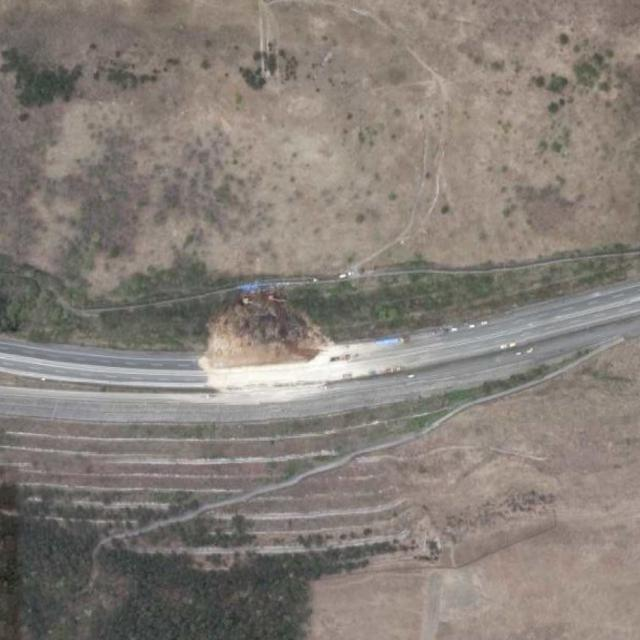landslide: (200, 291, 370, 392)
